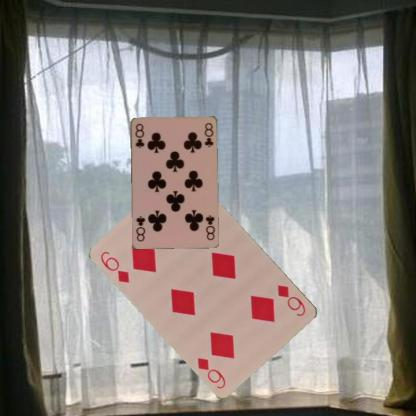6d: (98, 249, 131, 284), (275, 282, 307, 318)
8c: (132, 121, 145, 149), (203, 213, 216, 241)
